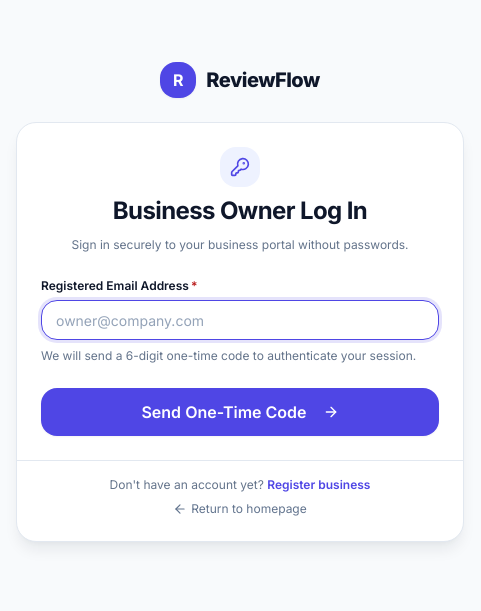
Test: LoginPage Flow › should allow returning to email step via use different email button
The image size is (481, 611).
Type "owner@bistro.com" into the field labelled "Registered Email Address*".
click(240, 320); type("owner@bistro.com")  # box [41,300,439,340]
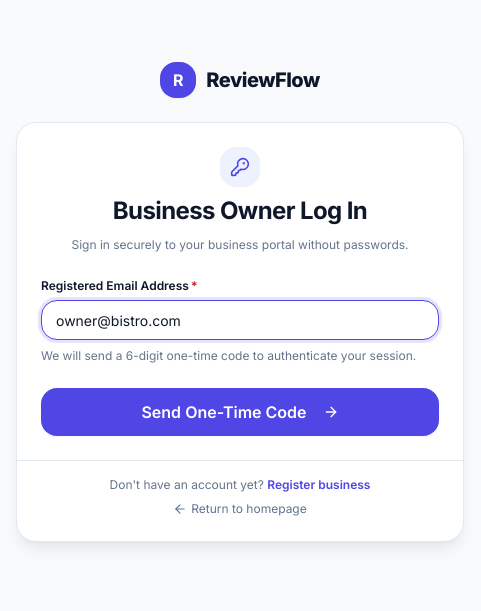
Click the button "Send One-Time Code".
click(240, 412)  # box [41,388,439,436]
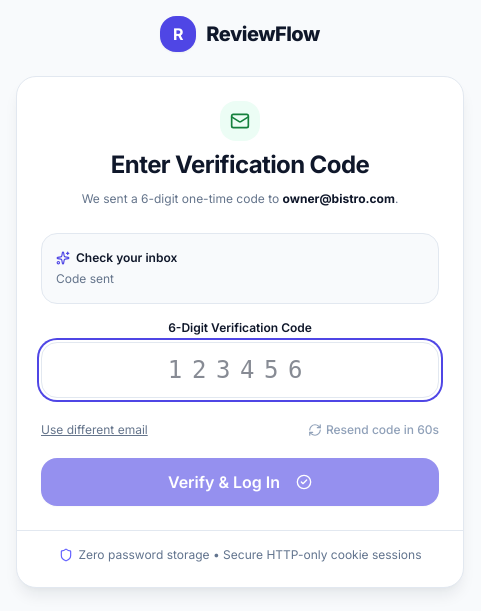
Expected: the heading "Enter Verification Code" is shown, [111,150,369,179]
Click the button "Use different email".
click(94, 430)  # box [41,422,148,438]
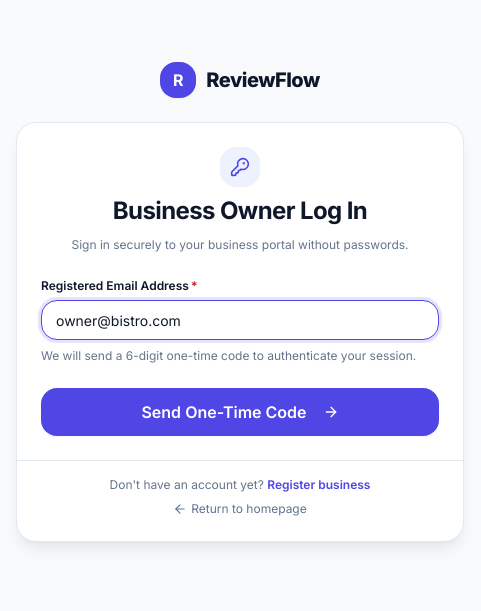
Expected: the heading "Business Owner Log In" is shown, [113,196,367,225]
